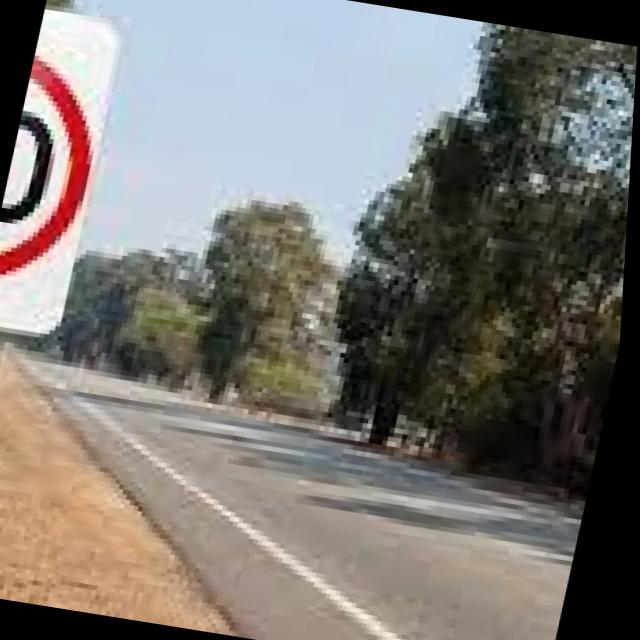Speed Limit -90-: (0, 36, 121, 299)
